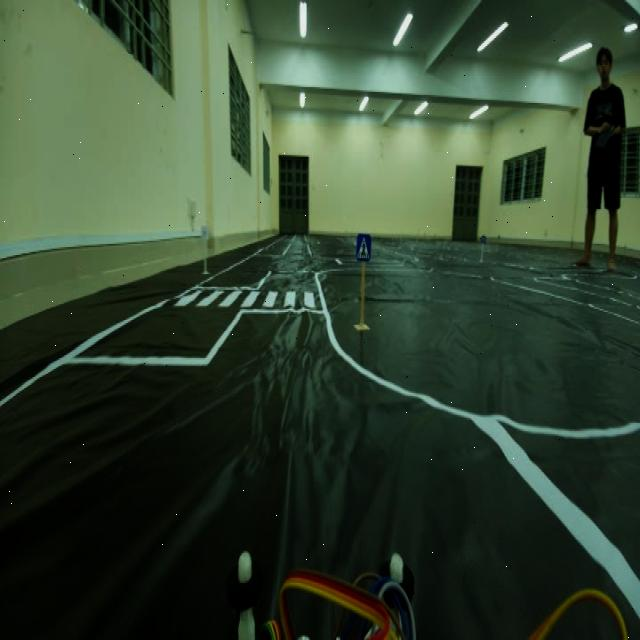crosswalk: (352, 221, 370, 269)
